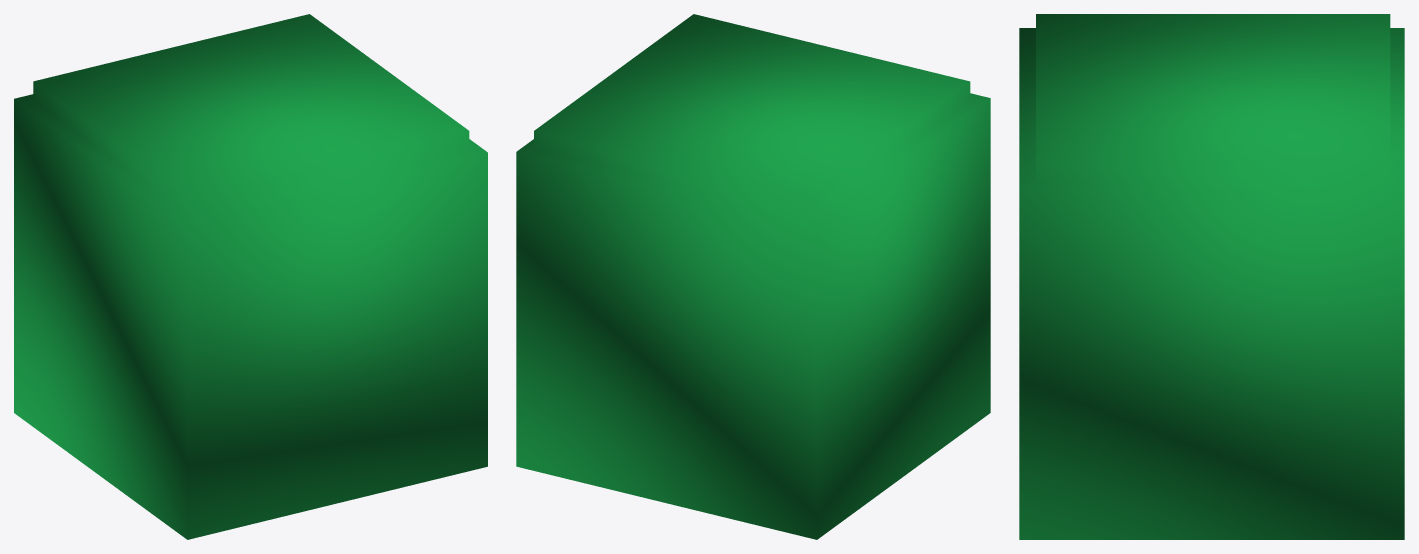
File: ps2_jrpg_desert_scrub_cactus.obj
3 renders of one model, left to right at view 1: azimuth 30°, elevation 25°; view 2: azimuth 150°, elevation 25°; view 3: azimuth 270°, elevation 25°, orthographic. The views are drawn at different scales.
Size of the model in its own units: 1 by 1.06 by 1.
